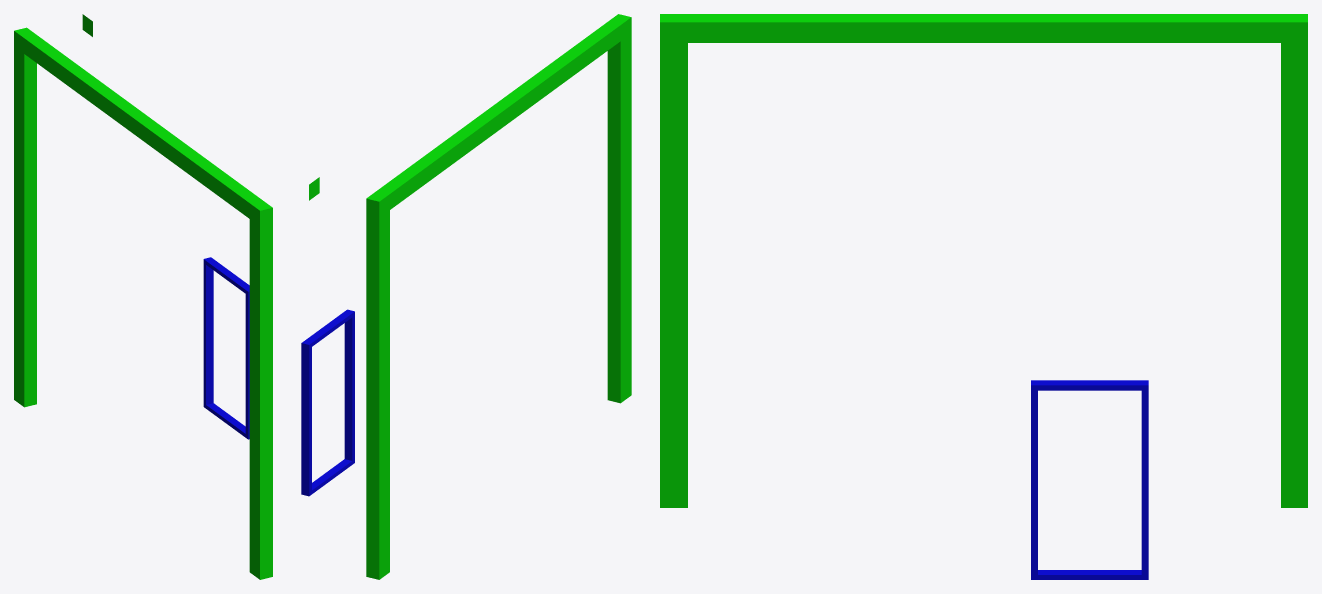
The model's file is Door_stand_Cnp.fbx.
3 renders of one model, left to right at view 1: azimuth 30°, elevation 25°; view 2: azimuth 150°, elevation 25°; view 3: azimuth 270°, elevation 25°, orthographic. The views are drawn at different scales.
Visible parts, largest first — view 1: CNP_Door_Frame_Stand; view 2: CNP_Door_Frame_Stand; view 3: CNP_Door_Frame_Stand.
Part boxes in pixels (x1,y1,x2,y2): CNP_Door_Frame_Stand: (14, 14, 272, 579); CNP_Door_Frame_Stand: (301, 14, 631, 579); CNP_Door_Frame_Stand: (660, 14, 1307, 579).
Bounding box in the file's own units: 235 × 608 × 735.
